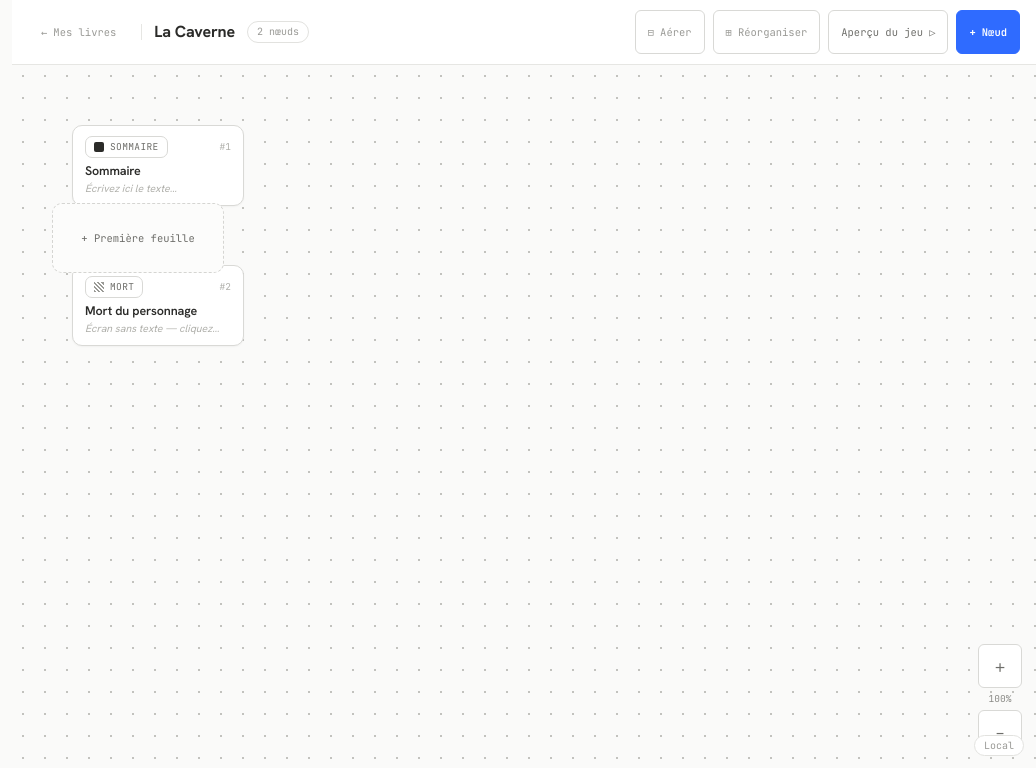
it: tree-canvas › « + Nœud » adds a node through BookService, selects it, and updates the count
The width and height of the screenshot is (1036, 768).
Click the button with aria-label "Ajouter un nœud": (988, 32) [956,10,1020,54]
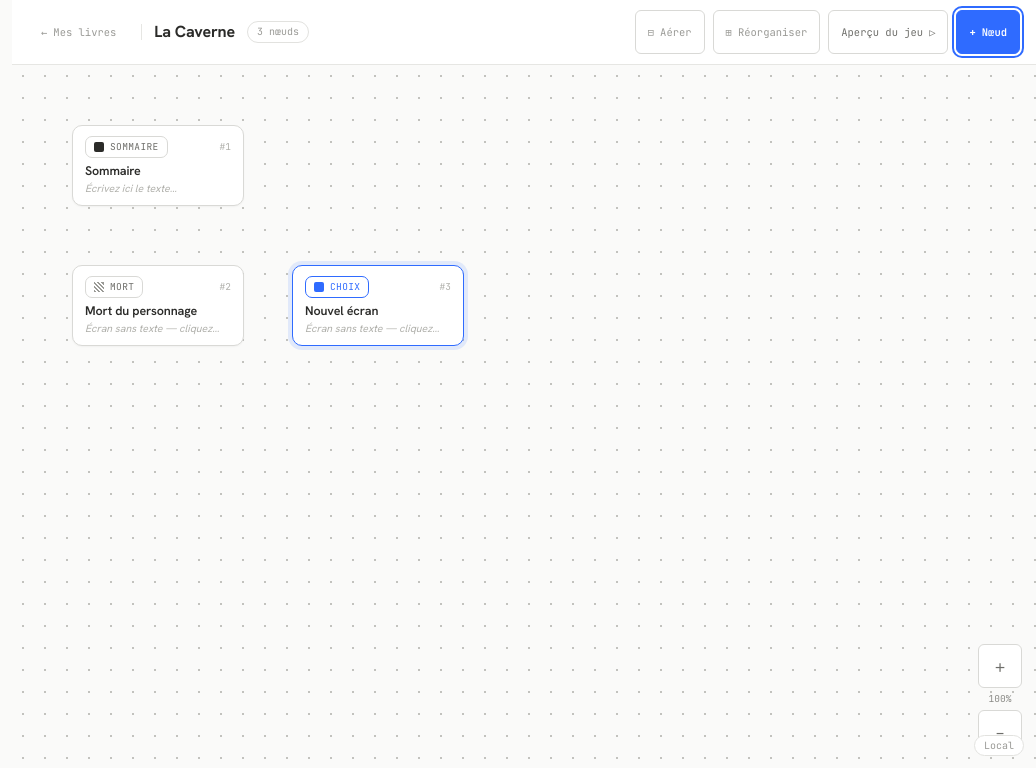
Check: the text "3 nœuds" is shown, box [247,21,309,43]
